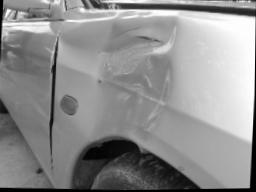Fender: (62, 8, 213, 152)
